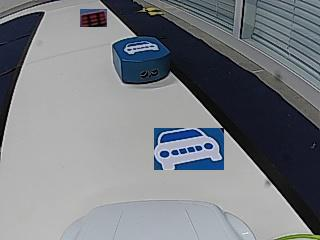safety: (124, 40, 158, 54)
